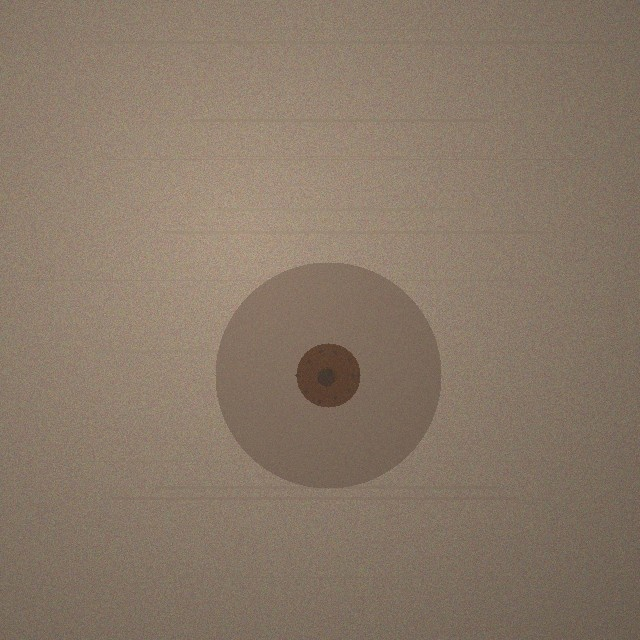cold_weld: (215, 262, 441, 488)
